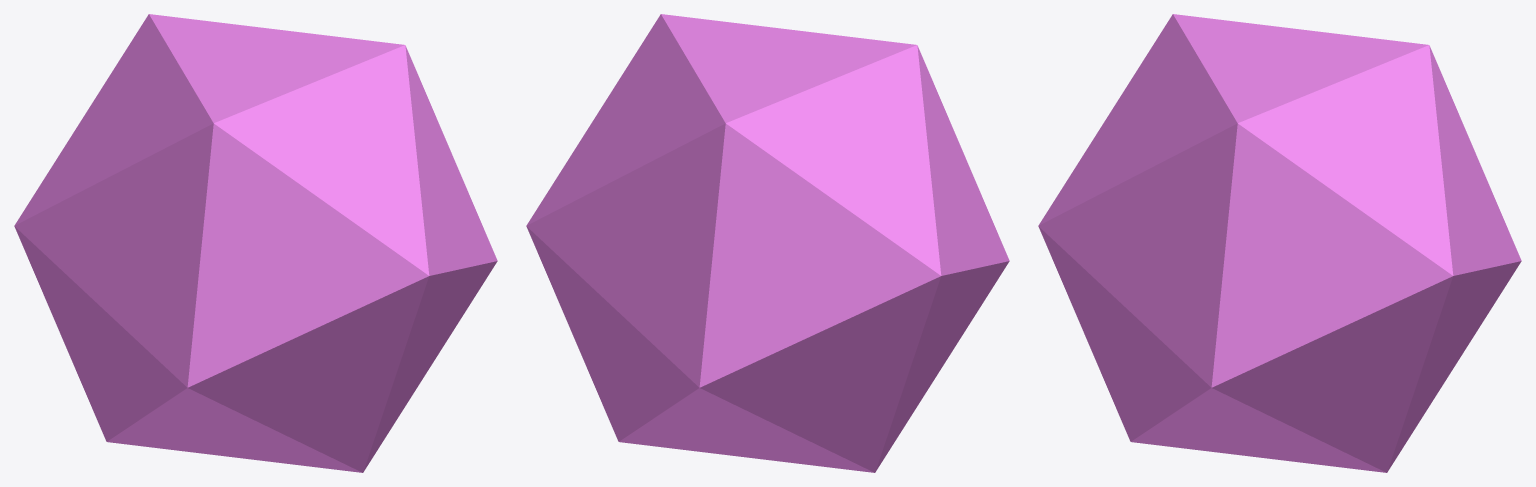
The model's file is Icosahedron.glb.
The picture shows the model from 3 angles, left to right: view 1: azimuth 30°, elevation 25°; view 2: azimuth 150°, elevation 25°; view 3: azimuth 270°, elevation 25°; orthographic projection.
Visible parts, largest first — view 1: Icosahedron; view 2: Icosahedron; view 3: Icosahedron.
Boxes of the visible parts, x1,y1,x2,y2 form: Icosahedron: (14, 14, 497, 472); Icosahedron: (526, 14, 1009, 472); Icosahedron: (1038, 14, 1521, 472).
Bounding box in the file's own units: 0.5403 × 0.4545 × 0.545.
